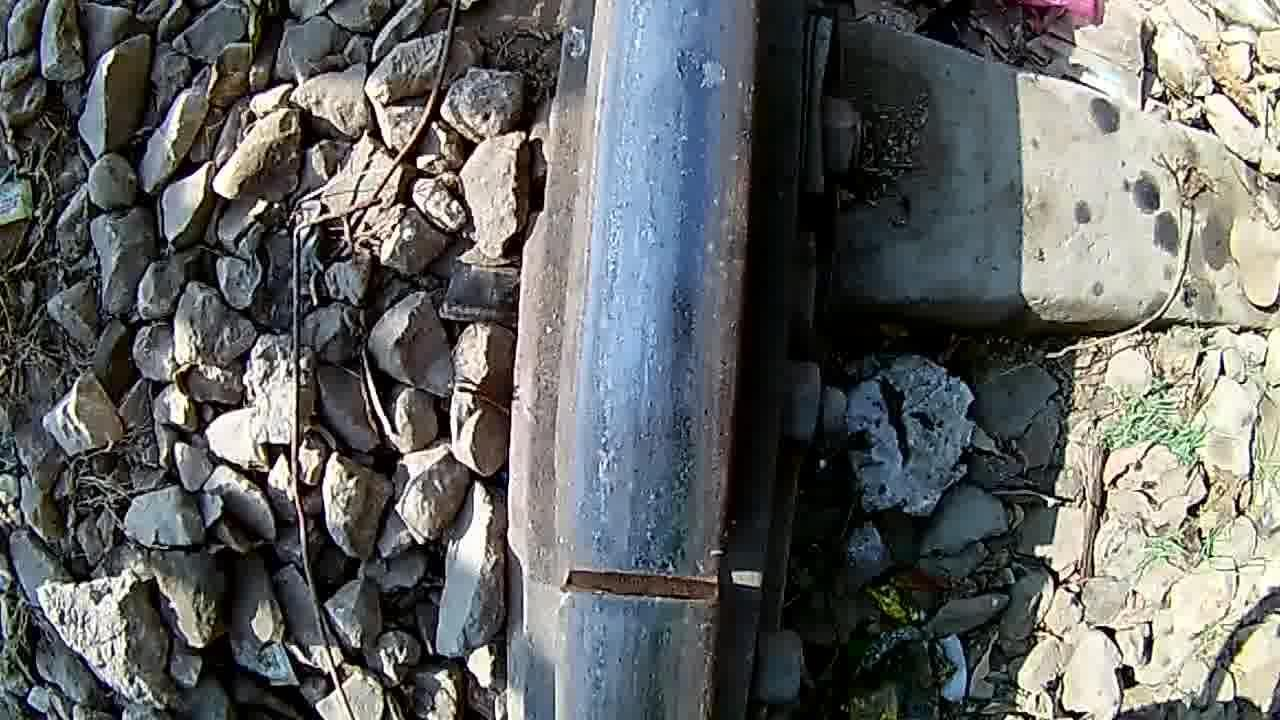crack: (523, 488, 761, 660)
